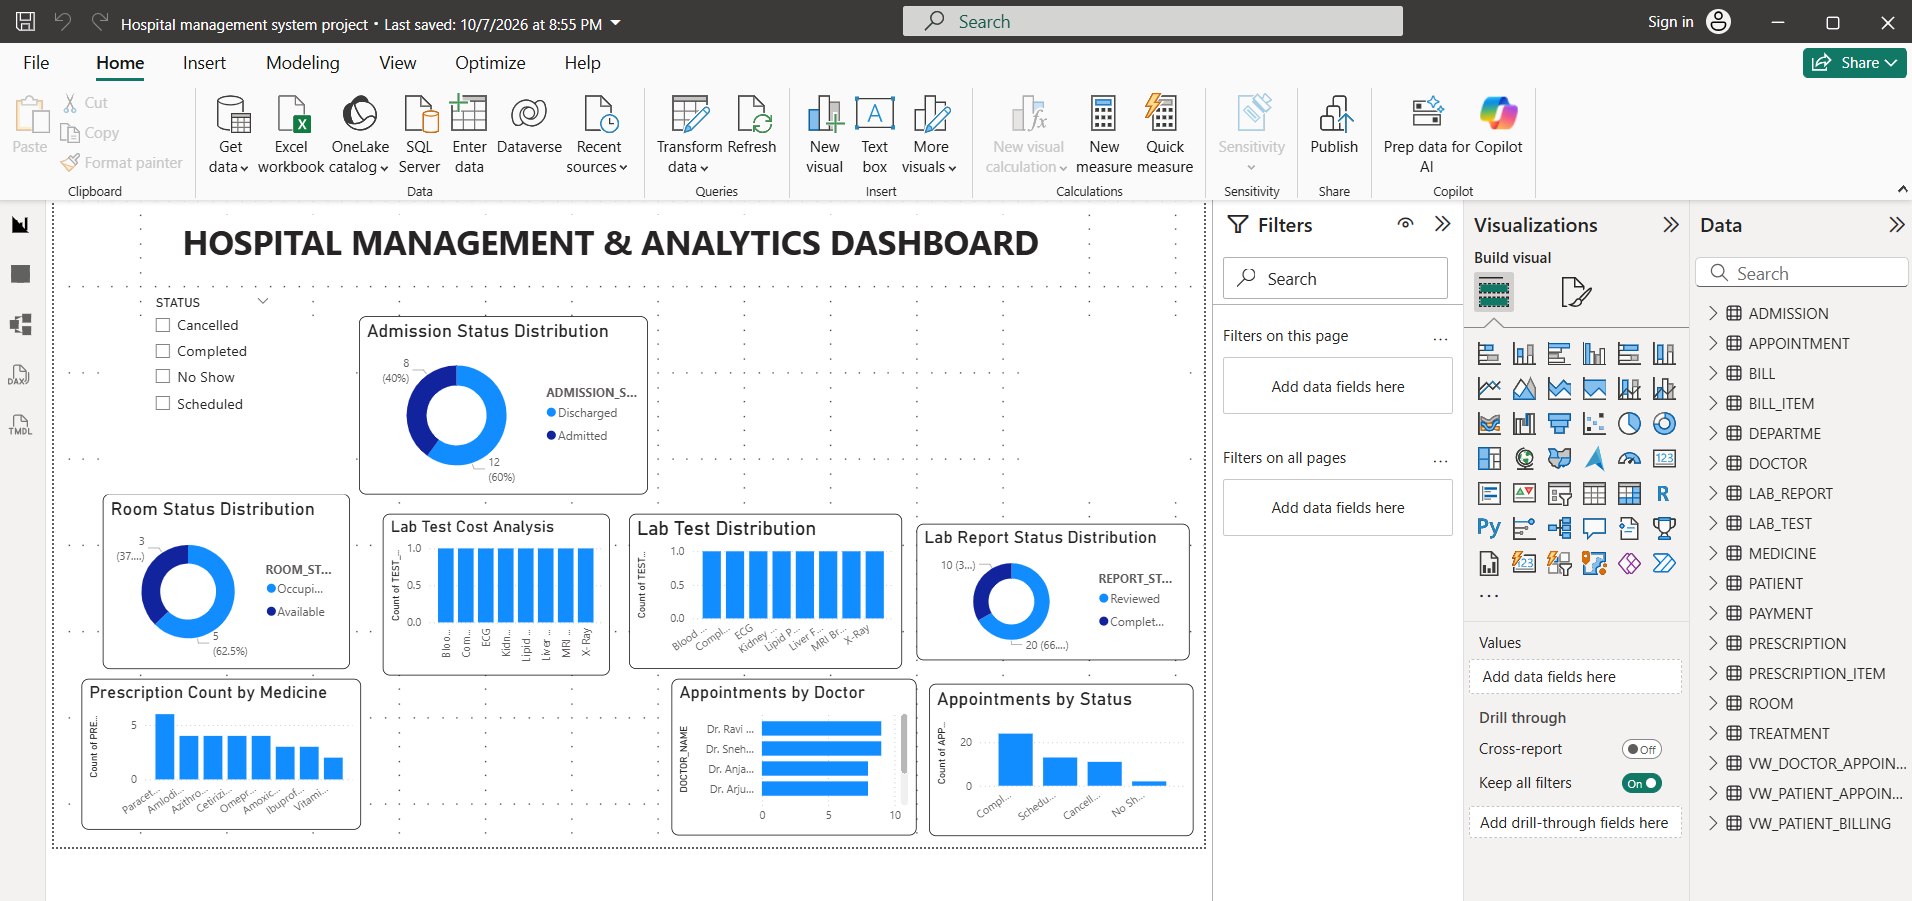

The page's visual inventory and layout, read from the dashboard file:
{"tool":"powerbi","page":{"name":"Page 2","canvas":[1280,720],"ordinal":1},"visuals":[{"type":"donutChart","title":"Admission Status Distribution","fields":{"Category":["ADMISSION.ADMISSION_STATUS"],"Y":["CountNonNull(ADMISSION.ADMISSION_ID)"]},"box":[339.4,129.5,321.6,198],"z":0},{"type":"donutChart","title":"Room Status Distribution","fields":{"Category":["ROOM.ROOM_STATUS"],"Y":["CountNonNull(ROOM.ROOM_ID)"]},"box":[53.6,327.5,275.4,195],"z":1000},{"type":"clusteredColumnChart","title":"Lab Test Distribution","fields":{"Category":["LAB_TEST.TEST_NAME"],"Y":["CountNonNull(LAB_TEST.TEST_ID)"]},"box":[640.2,349.9,303.7,172.7],"z":2000},{"type":"donutChart","title":"Lab Report Status Distribution","fields":{"Category":["LAB_REPORT.REPORT_STATUS"],"Y":["CountNonNull(LAB_REPORT.REPORT_ID)"]},"box":[960.2,360.3,303.7,151.8],"z":3000},{"type":"clusteredColumnChart","title":"Prescription Count by Medicine","fields":{"Y":["CountNonNull(PRESCRIPTION_ITEM.PRESCRIPTION_ITEM_ID)"],"Category":["MEDICINE.MEDICINE_NAME"]},"box":[31.3,533,311.1,168.2],"z":4000},{"type":"clusteredBarChart","title":"Appointments by Doctor","fields":{"Category":["VW_DOCTOR_APPOINTMENTS.DOCTOR_NAME"],"Y":["Sum(VW_DOCTOR_APPOINTMENTS.TOTAL_APPOINTMENTS)"]},"box":[687.8,533,272.4,174.2],"z":5000},{"type":"clusteredColumnChart","title":"Appointments by Status","fields":{"Category":["APPOINTMENT.STATUS"],"Y":["CountNonNull(APPOINTMENT.APPOINTMENT_ID)"]},"box":[973.6,538.9,294.8,169.7],"z":6000},{"type":"clusteredColumnChart","title":"Lab Test Cost Analysis","fields":{"Category":["LAB_TEST.TEST_NAME"],"Y":["CountNonNull(LAB_TEST.TEST_COST)"]},"box":[366.2,349.9,253.1,180.1],"z":7000},{"type":"textbox","box":[54,130,275,198],"z":8000},{"type":"textbox","box":[1076,130,188,198],"z":9000},{"type":"textbox","box":[102.7,16.4,1033.2,77.4],"z":10000},{"type":"slicer","fields":{"Values":["APPOINTMENT.STATUS"]},"box":[100.4,100.4,151.3,215.3],"z":11000}]}

Visuals, with their boxes on the page's 1280x720 design canvas (x1, y1, x2, y2). These are canvas units, not pixel positions in the 1912x901 screenshot, which may show the page scaled, cropped or inside an application window:
"Admission Status Distribution" donutChart: {"left": 339, "top": 130, "right": 661, "bottom": 328}
"Room Status Distribution" donutChart: {"left": 54, "top": 328, "right": 329, "bottom": 522}
"Lab Test Distribution" clusteredColumnChart: {"left": 640, "top": 350, "right": 944, "bottom": 523}
"Lab Report Status Distribution" donutChart: {"left": 960, "top": 360, "right": 1264, "bottom": 512}
"Prescription Count by Medicine" clusteredColumnChart: {"left": 31, "top": 533, "right": 342, "bottom": 701}
"Appointments by Doctor" clusteredBarChart: {"left": 688, "top": 533, "right": 960, "bottom": 707}
"Appointments by Status" clusteredColumnChart: {"left": 974, "top": 539, "right": 1268, "bottom": 709}
"Lab Test Cost Analysis" clusteredColumnChart: {"left": 366, "top": 350, "right": 619, "bottom": 530}
textbox: {"left": 54, "top": 130, "right": 329, "bottom": 328}
textbox: {"left": 1076, "top": 130, "right": 1264, "bottom": 328}
textbox: {"left": 103, "top": 16, "right": 1136, "bottom": 94}
slicer - APPOINTMENT.STATUS: {"left": 100, "top": 100, "right": 252, "bottom": 316}
